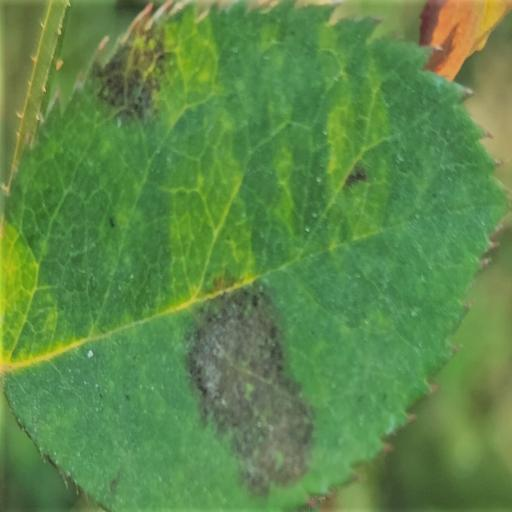black_spot: (0, 0, 507, 510)
